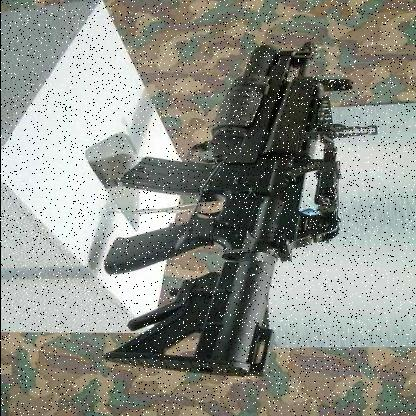rifle: (69, 38, 364, 388)
